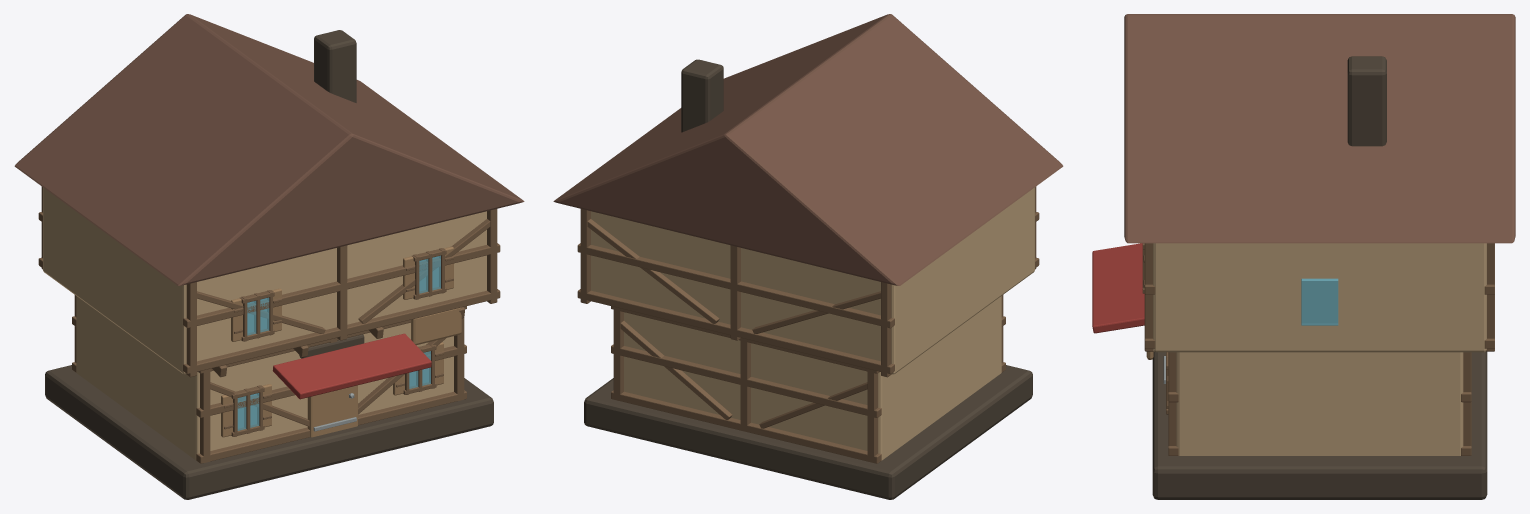
Rendered from merchant_shop.glb.
3 renders of one model, left to right at view 1: azimuth 30°, elevation 25°; view 2: azimuth 150°, elevation 25°; view 3: azimuth 270°, elevation 25°, orthographic. The views are drawn at different scales.
Parts seen in each view (by area): view 1: Roof, OverhangingUpperFloor, StoneFoundation, GroundFloor, ShopAwning, TimberBeam.006, TimberBeam.008, Chimney, TimberBeam, INTERACT_Door, ShopSign, DiagonalBrace.006 (+13 smaller); view 2: Roof, OverhangingUpperFloor, GroundFloor, StoneFoundation, TimberBeam.007, TimberBeam.009, TimberBeam.001, TimberBeam.003, Chimney, DiagonalBrace.007, DiagonalBrace.003, TimberPost.007 (+8 smaller); view 3: Roof, OverhangingUpperFloor, GroundFloor, StoneFoundation, ShopAwning, Chimney, WindowGlass.005, TimberPost.010, TimberPost.004, TimberPost.005, TimberPost.011.
Boxes of the visible parts, x1,y1,x2,y2 form: Roof: (14,14,524,285); OverhangingUpperFloor: (43,187,486,374); StoneFoundation: (45,365,493,499); GroundFloor: (76,296,453,460); ShopAwning: (272,333,431,399); TimberBeam.006: (183,289,500,374); TimberBeam.008: (183,243,500,328); Chimney: (314,30,356,102); TimberBeam: (196,390,466,463); INTERACT_Door: (307,385,357,437); ShopSign: (411,307,461,345); DiagonalBrace.006: (358,219,490,323); Roof: (553,14,1063,285); OverhangingUpperFloor: (591,187,1034,374); GroundFloor: (624,296,1001,460); StoneFoundation: (584,365,1032,499); TimberBeam.007: (577,289,894,374); TimberBeam.009: (577,243,894,328); TimberBeam.001: (611,390,881,463); TimberBeam.003: (611,344,881,417); Chimney: (681,59,723,132); DiagonalBrace.007: (587,219,719,323); DiagonalBrace.003: (620,321,732,419); TimberPost.007: (881,282,891,377); Roof: (1124,14,1515,243); OverhangingUpperFloor: (1153,243,1486,352); GroundFloor: (1176,352,1463,455); StoneFoundation: (1152,351,1487,499); ShopAwning: (1092,243,1144,333); Chimney: (1347,56,1386,146); WindowGlass.005: (1301,278,1338,325); TimberPost.010: (1144,243,1153,351); TimberPost.004: (1168,352,1176,445); TimberPost.005: (1463,352,1471,445); TimberPost.011: (1486,243,1494,351).
Bounding box in the file's own units: 8.65 × 8.1 × 7.78.
